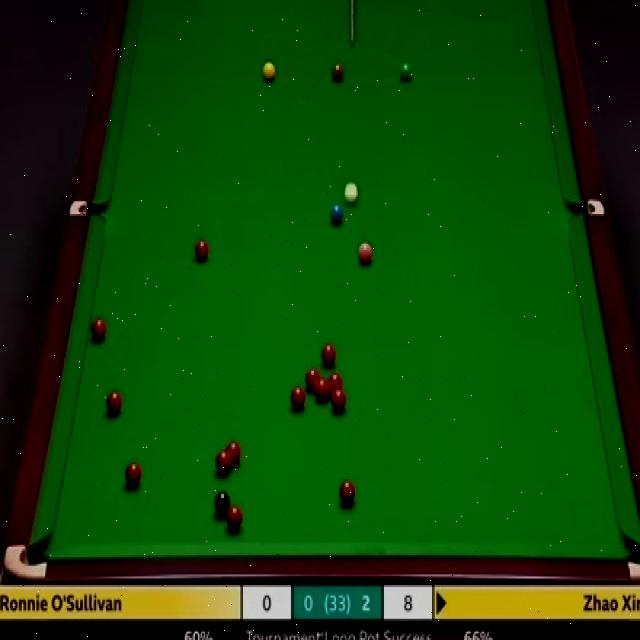black-ball: (213, 488, 232, 521)
blue-ball: (330, 202, 346, 228)
brown-ball: (331, 62, 345, 84)
green-ball: (397, 62, 412, 84)
pink-ball: (356, 237, 376, 267)
red-ball: (225, 506, 245, 536), (213, 450, 233, 477), (319, 341, 338, 368), (105, 388, 122, 418), (124, 461, 142, 489), (89, 316, 107, 343), (289, 386, 306, 411), (314, 378, 331, 403), (193, 238, 210, 262), (339, 481, 355, 506), (303, 368, 321, 390), (226, 440, 243, 463), (331, 387, 346, 412), (328, 373, 344, 392)
white-ball: (343, 180, 359, 207)
yellow-ball: (262, 61, 276, 83)
